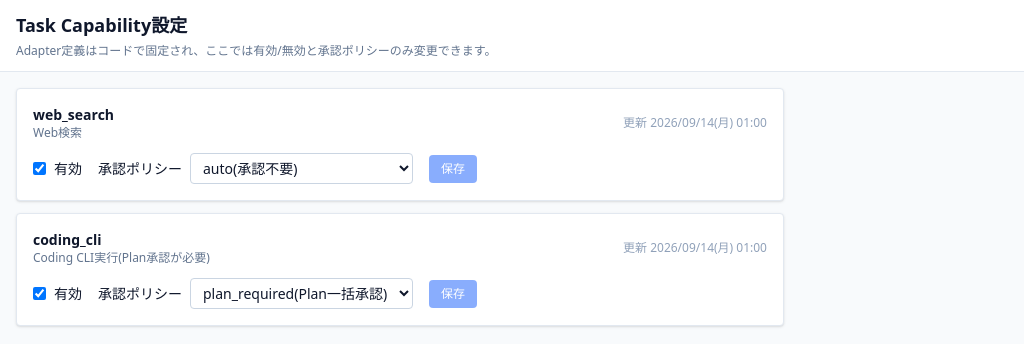
Test: CapabilitySettingsPage › toggles enabled and saves with PUT args
Expected: the number of elements with test id "capability-row" is 2, [16, 88, 784, 201]; [16, 213, 784, 326]
Click the checkbox named "coding_cliの有効化" at (40, 294), box [33, 287, 46, 300]
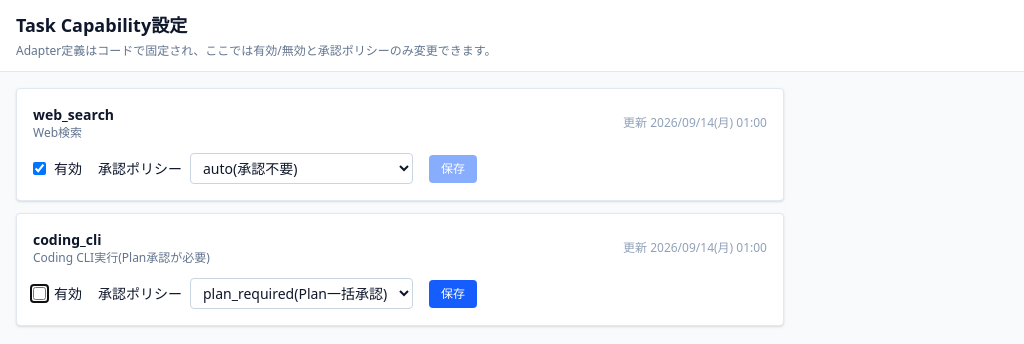
Now the button "保存" below "Coding CLI実行(Plan承認が必要)" is enabled
Click the button "保存" below "Coding CLI実行(Plan承認が必要)" at (453, 294), box [429, 280, 477, 308]
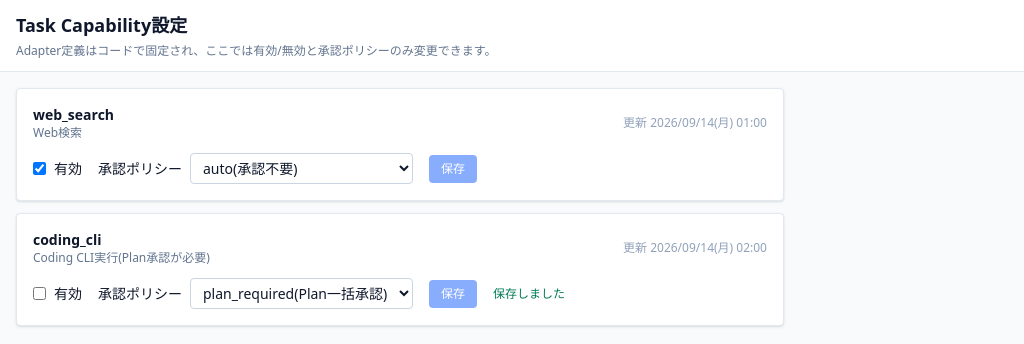
Now the text "保存しました" is shown, box [493, 286, 565, 302]
